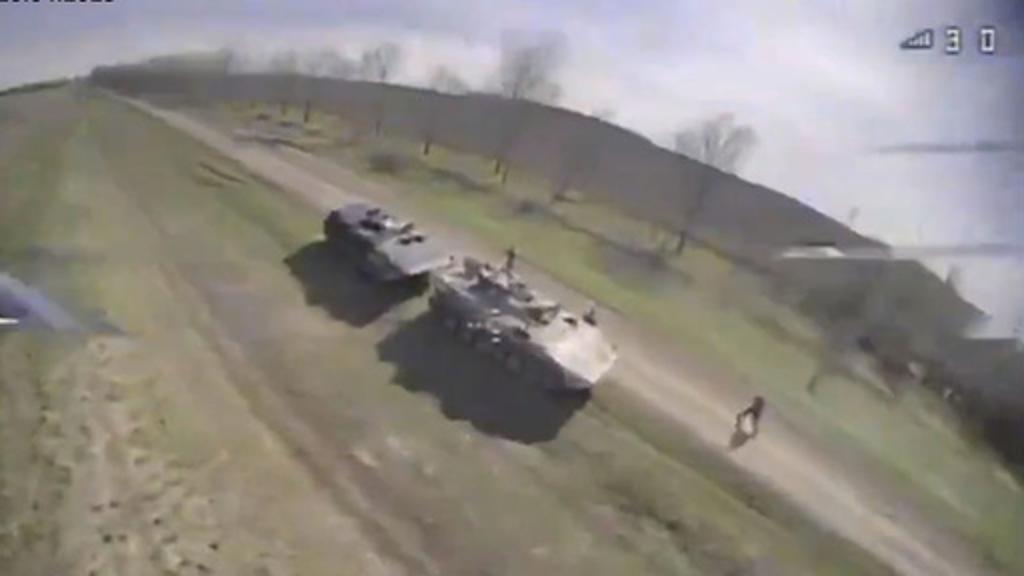APC-IFV: (430, 246, 620, 398), (318, 188, 450, 290)
